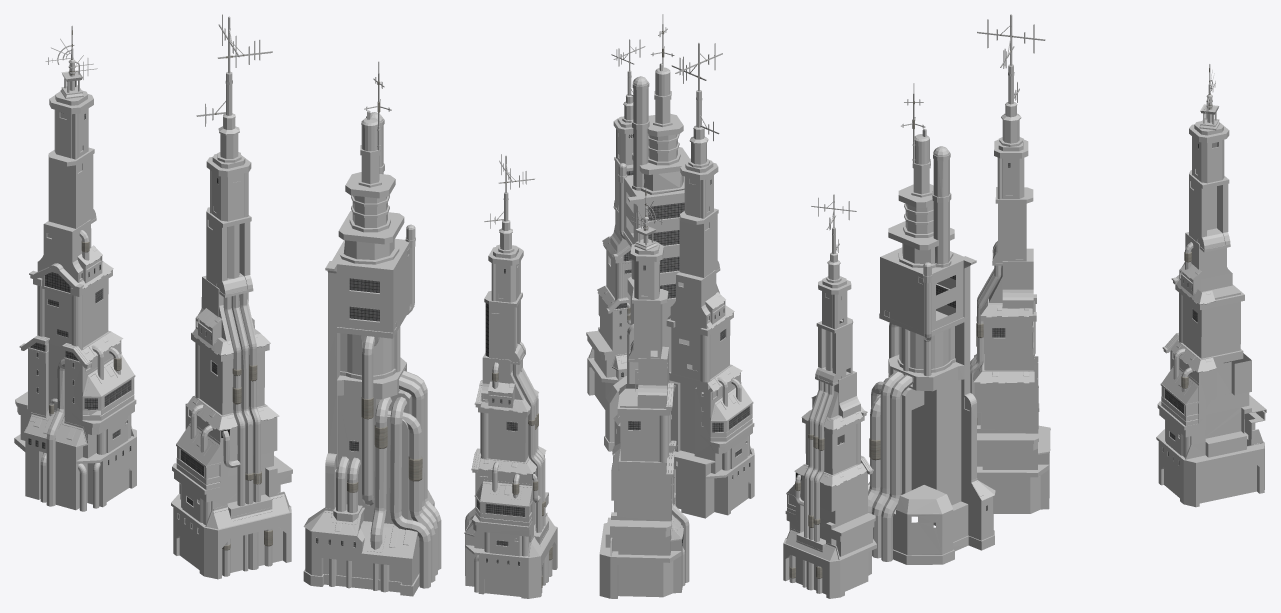
The model's file is CommonBuilding_Db_Distant.fbx.
3 renders of one model, left to right at view 1: azimuth 30°, elevation 25°; view 2: azimuth 150°, elevation 25°; view 3: azimuth 270°, elevation 25°, orthographic. The views are drawn at different scales.
Parts seen in each view (by area): view 1: SM_ENV_AMVLLG02_CommonBuilding_Db_Distant.mo; view 2: SM_ENV_AMVLLG02_CommonBuilding_Db_Distant.mo; view 3: SM_ENV_AMVLLG02_CommonBuilding_Db_Distant.mo.
Boxes of the visible parts, left/top/right/bottom form: SM_ENV_AMVLLG02_CommonBuilding_Db_Distant.mo: left=14, top=14, right=557, bottom=598; SM_ENV_AMVLLG02_CommonBuilding_Db_Distant.mo: left=586, top=14, right=754, bottom=598; SM_ENV_AMVLLG02_CommonBuilding_Db_Distant.mo: left=783, top=14, right=1266, bottom=598.
Size of the model in its own units: 8083 by 13017 by 11632.
